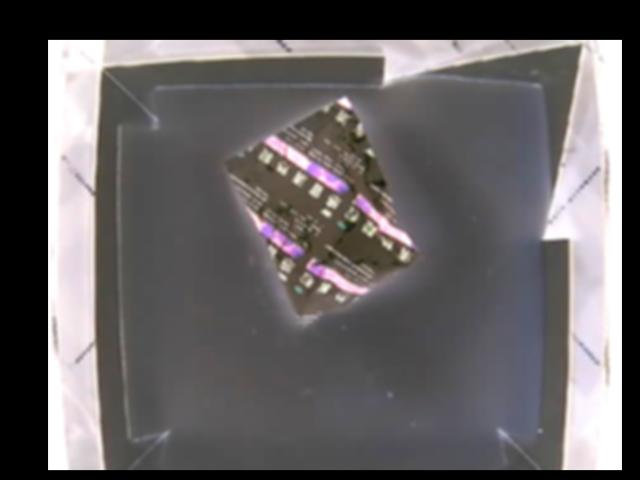Medicine: (222, 95, 417, 320)
